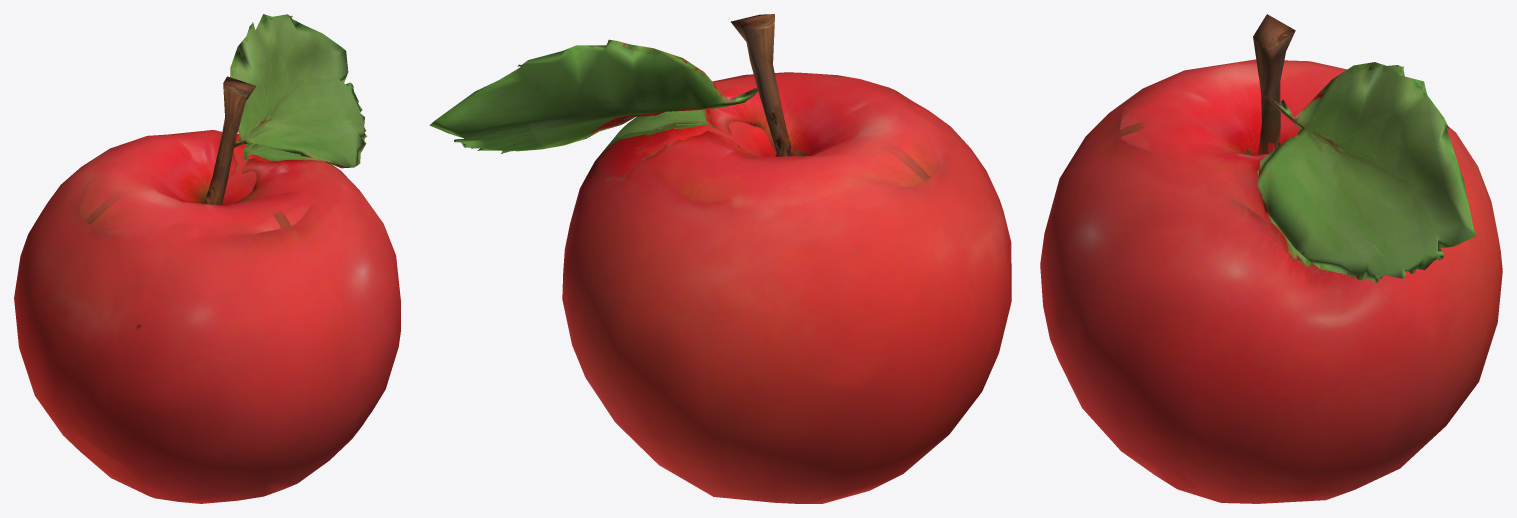
3 views of the same model, side by side, from view 1: azimuth 30°, elevation 25°; view 2: azimuth 150°, elevation 25°; view 3: azimuth 270°, elevation 25° (orthographic). The views are drawn at different scales.
Visible parts, largest first — view 1: Mesh1; view 2: Mesh1; view 3: Mesh1.
Part boxes in pixels (x1,y1,x2,y2): Mesh1: [14, 14, 400, 503]; Mesh1: [429, 14, 1011, 503]; Mesh1: [1040, 14, 1502, 503].
Size of the model in its own units: 199 by 188 by 171.
1 material, 1 textured.
